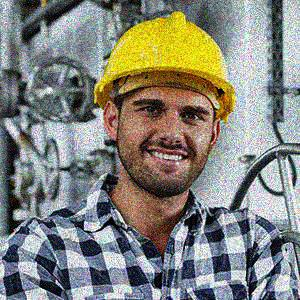helmet: (91, 11, 236, 198)
